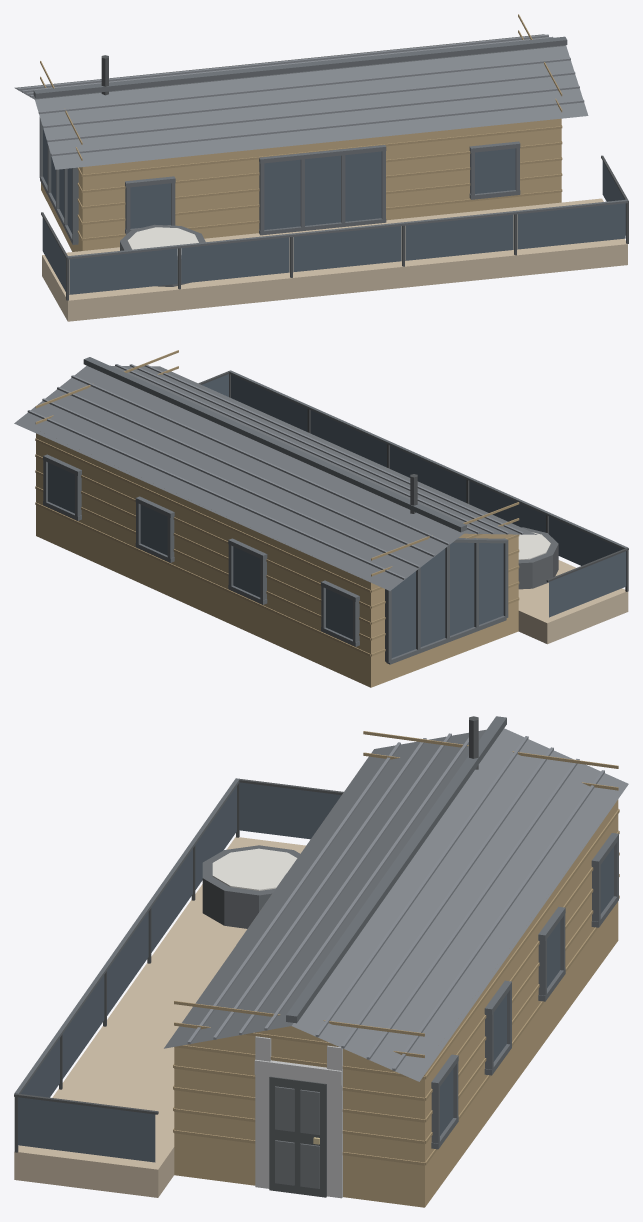
3 renders of one model, top to bottom at view 1: azimuth 30°, elevation 25°; view 2: azimuth 150°, elevation 25°; view 3: azimuth 270°, elevation 25°, orthographic. The views are drawn at different scales.
Visible parts, largest first — view 1: slate, door_wood, larch, slate_dk, slate_lt, door_wood_p, window_glass_001, window_glass_004, window_glass_002, window_glass_003, window_glass_005, window_glass_010 (+10 smaller); view 2: slate, door_wood, slate_dk, slate_lt, window_glass_013, door_wood_p, larch, window_glass_006, window_glass_005, window_glass_004, window_glass_003, window_glass_001 (+8 smaller); view 3: slate, door_wood, larch, slate_dk, slate_lt, door_wood_p, window_glass_007, stone_band, window_glass_006, door_dark_p, door_dark, band_dark (+11 smaller).
Boxes of the visible parts, left/top/right/bottom form: slate: left=14, top=34, right=588, bottom=169; door_wood: left=41, top=118, right=561, bottom=251; larch: left=42, top=198, right=627, bottom=321; slate_dk: left=33, top=36, right=627, bottom=259; slate_lt: left=18, top=34, right=584, bottom=156; door_wood_p: left=40, top=14, right=562, bottom=240; window_glass_001: left=69, top=248, right=177, bottom=294; window_glass_004: left=405, top=214, right=513, bottom=260; window_glass_002: left=181, top=237, right=289, bottom=283; window_glass_003: left=293, top=226, right=401, bottom=272; window_glass_005: left=517, top=203, right=625, bottom=249; window_glass_010: left=345, top=151, right=381, bottom=221; slate: left=14, top=365, right=537, bottom=590; door_wood: left=36, top=433, right=518, bottom=687; slate_dk: left=43, top=357, right=627, bottom=664; slate_lt: left=27, top=364, right=523, bottom=579; window_glass_013: left=391, top=542, right=503, bottom=657; door_wood_p: left=35, top=350, right=519, bottom=656; larch: left=518, top=560, right=628, bottom=644; window_glass_006: left=549, top=551, right=626, bottom=617; window_glass_005: left=231, top=374, right=307, bottom=431; window_glass_004: left=310, top=410, right=386, bottom=467; window_glass_003: left=390, top=445, right=466, bottom=502; window_glass_001: left=549, top=516, right=622, bottom=565; slate: left=164, top=728, right=628, bottom=1081; door_wood: left=174, top=799, right=618, bottom=1207; larch: left=14, top=837, right=305, bottom=1197; slate_dk: left=14, top=716, right=618, bottom=1149; slate_lt: left=187, top=733, right=604, bottom=1070; door_wood_p: left=173, top=731, right=619, bottom=1165; window_glass_007: left=18, top=1097, right=155, bottom=1162; stone_band: left=254, top=1036, right=342, bottom=1198; window_glass_006: left=239, top=782, right=341, bottom=839; door_dark_p: left=275, top=1086, right=319, bottom=1188; door_dark: left=269, top=1076, right=326, bottom=1197; band_dark: left=202, top=845, right=299, bottom=928.
Size of the model in its own units: 13.6 by 4.05 by 9.84.
